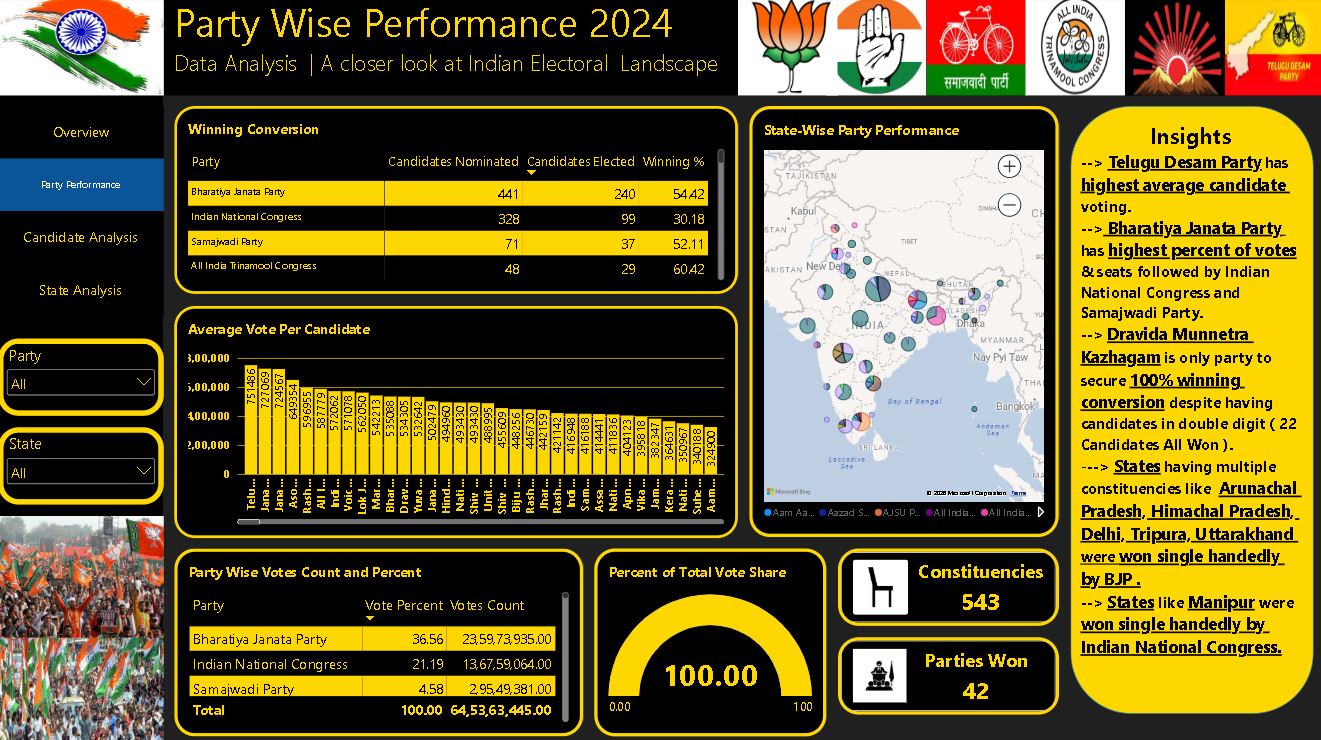

The page's visual inventory and layout, read from the dashboard file:
{"tool":"powerbi","page":{"name":"Party Performance","canvas":[1920,1080],"ordinal":1},"visuals":[{"type":"shape","box":[240,0,1680,144],"z":0},{"type":"shape","box":[0,-8,240,1088],"z":1000},{"type":"textbox","box":[256,0,912,144],"z":2000},{"type":"map","title":"State-Wise Party Performance","fields":{"Category":["statewise_performance.state"],"Series":["statewise_performance.party"],"Size":["Sum(statewise_performance.Seats_Won)"]},"box":[1088,160,448,624],"z":3000},{"type":"slicer","fields":{"Values":["statewise_performance.state"]},"box":[0,624,240,112],"z":4000},{"type":"slicer","title":"Party","fields":{"Values":["statewise_performance.party"]},"box":[0,496,240,112],"z":5000},{"type":"pivotTable","title":"Winning Conversion","fields":{"Rows":["strike_rate.party"],"Values":["Sum(strike_rate.candidates)","Sum(strike_rate.won)","Sum(strike_rate.Percentage)"]},"box":[256,160,816,272],"z":6000},{"type":"tableEx","title":"Party  Wise  Votes Count and Percent","fields":{"Values":["party_votes_percentage.Party","Sum(party_votes_percentage.Vote_Share)","Sum(party_votes_percentage.Votes)"]},"box":[256,800,592,272],"z":7000},{"type":"clusteredColumnChart","title":"Average Vote Per Candidate","fields":{"Category":["avg_vote_cnt_per_cand.Party"],"Y":["Sum(avg_vote_cnt_per_cand.Average_Vote_Per_Candidate)"]},"box":[256,448,816,336],"z":8000},{"type":"image","box":[0,0,240,144],"z":9000},{"type":"image","box":[1344,0,144,144],"z":10000},{"type":"image","box":[1776,0,144,144],"z":11000},{"type":"image","box":[1200,0,144,144],"z":12000},{"type":"image","box":[1632,0,144,144],"z":13000},{"type":"cardVisual","fields":{"Data":["Sum(statewise_performance.Seats_Won)"]},"box":[1216,800,320,112],"z":14000},{"type":"cardVisual","fields":{"Data":["Count(statewise_performance.party)"]},"box":[1216,928,320,112],"z":15000},{"type":"shape","box":[1552,160,352,880],"z":16000},{"type":"textbox","box":[1568,160,320,864],"z":17000},{"type":"gauge","title":"Percent of Total Vote Share","fields":{"MaxValue":["party_votes_percentage.Max"],"Y":["Sum(party_votes_percentage.Vote_Share)"]},"box":[864,800,336,272],"z":18000},{"type":"image","box":[0,904,240,176],"z":19000},{"type":"image","box":[0,752,240,176],"z":20000},{"type":"pageNavigator","box":[0,160,240,304],"z":21000},{"type":"image","box":[1488,0,144,144],"z":22000},{"type":"image","box":[1072,0,144,144],"z":23000}]}

Visuals, with their boxes in screenshot pixels (x1, y1, x2, y2), scaled from the page's 1920x1080 canvas onto the 1321x740 screenshot:
shape: box(165, 0, 1320, 99)
shape: box(0, 0, 165, 739)
textbox: box(176, 0, 804, 99)
"State-Wise Party Performance" map: box(749, 110, 1057, 537)
slicer - statewise_performance.state: box(0, 428, 165, 504)
"Party" slicer: box(0, 340, 165, 417)
"Winning Conversion" pivotTable: box(176, 110, 738, 296)
"Party  Wise  Votes Count and Percent" tableEx: box(176, 548, 583, 735)
"Average Vote Per Candidate" clusteredColumnChart: box(176, 307, 738, 537)
image: box(0, 0, 165, 99)
image: box(925, 0, 1024, 99)
image: box(1222, 0, 1320, 99)
image: box(826, 0, 925, 99)
image: box(1123, 0, 1222, 99)
cardVisual - Sum(statewise_performance.Seats_Won): box(837, 548, 1057, 625)
cardVisual - Count(statewise_performance.party): box(837, 636, 1057, 713)
shape: box(1068, 110, 1310, 713)
textbox: box(1079, 110, 1299, 702)
"Percent of Total Vote Share" gauge: box(594, 548, 826, 735)
image: box(0, 619, 165, 739)
image: box(0, 515, 165, 636)
pageNavigator: box(0, 110, 165, 318)
image: box(1024, 0, 1123, 99)
image: box(738, 0, 837, 99)
